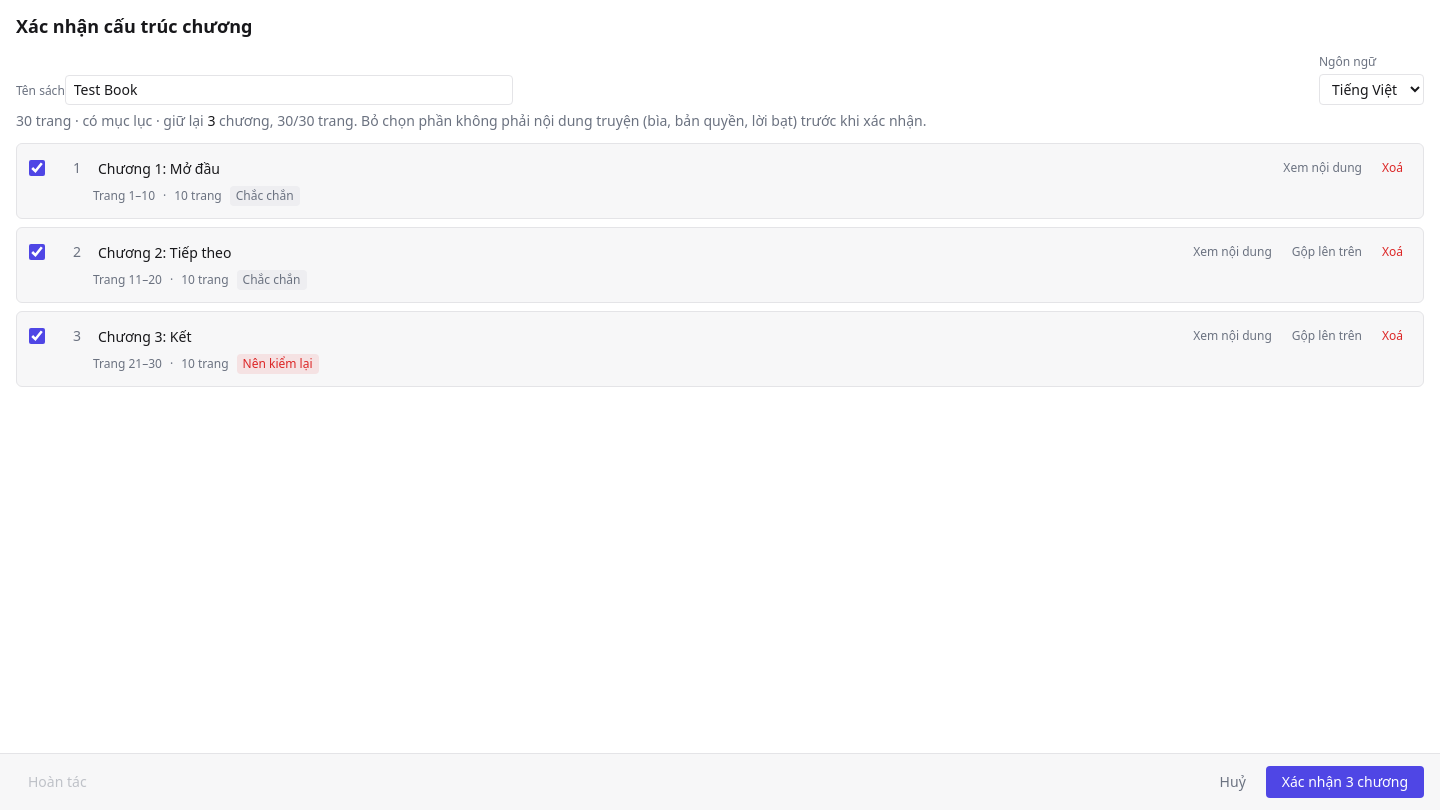
Scenario: loại trừ chương › loại hết mọi chương thì chặn xác nhận
Click the checkbox named "Đưa \"Chương 1: Mở đầu\" vào sách": (37, 168) [29,160,45,176]
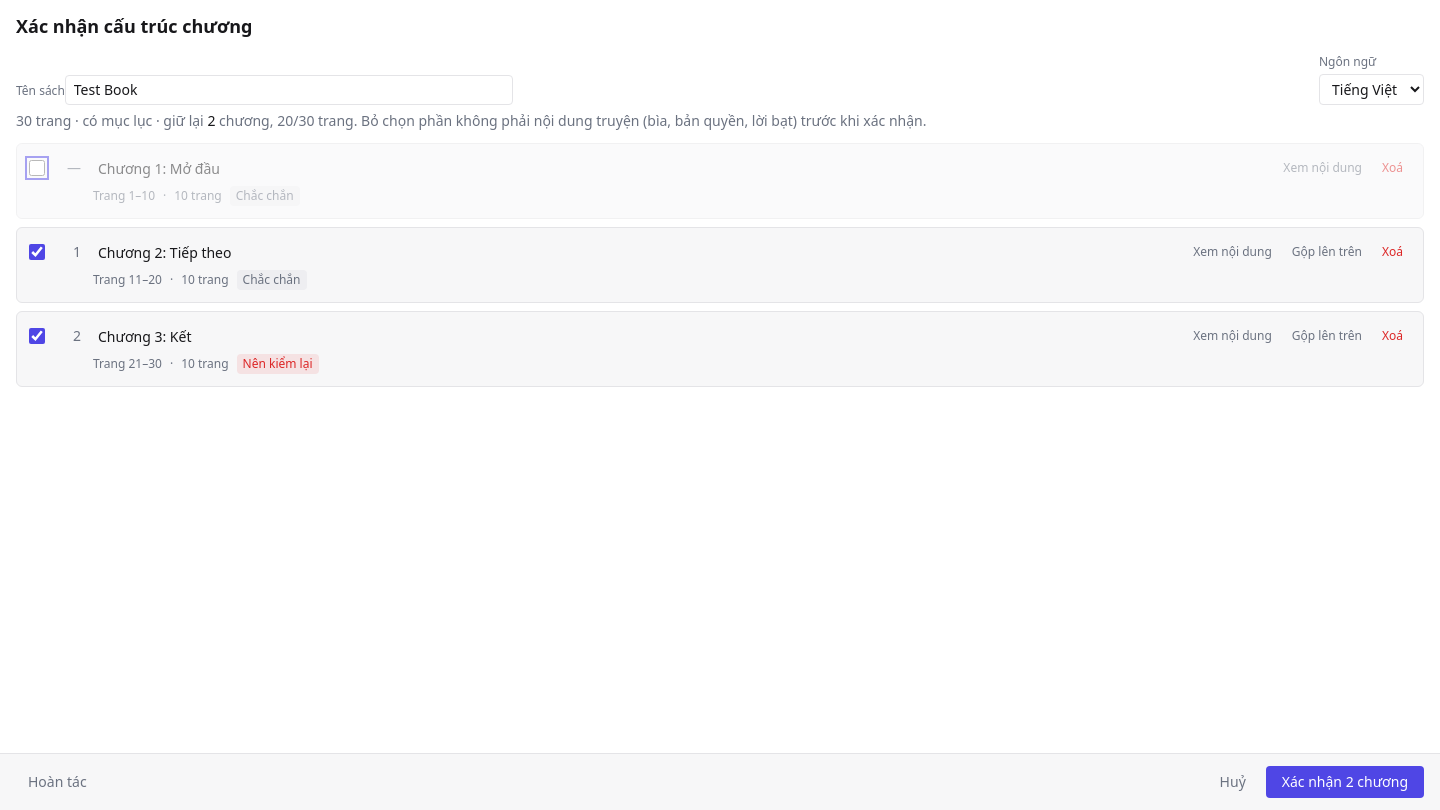
Click the checkbox named "Đưa \"Chương 2: Tiếp theo\" vào sách": (37, 252) [29,244,45,260]
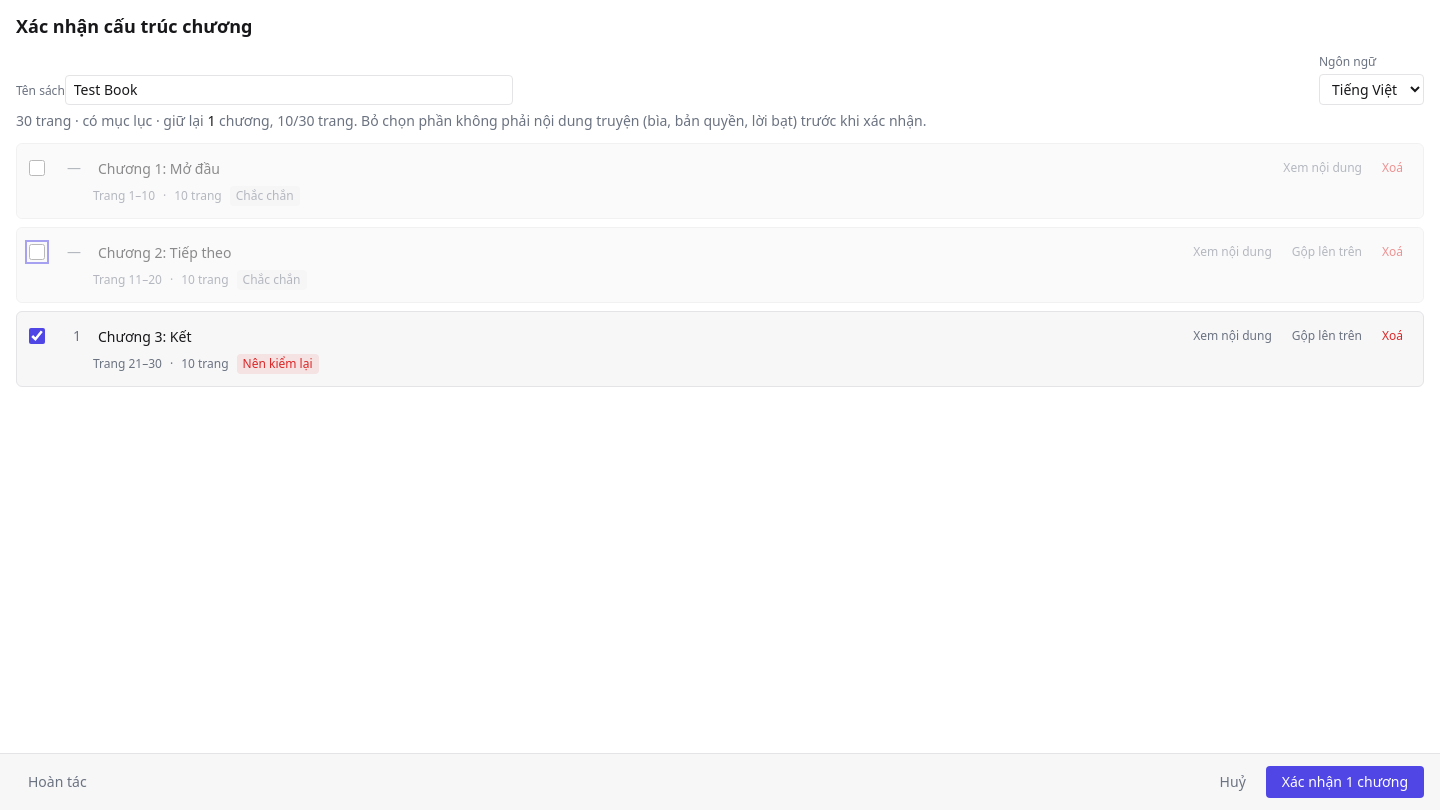
Click the checkbox named "Đưa \"Chương 3: Kết\" vào sách": (37, 336) [29,328,45,344]
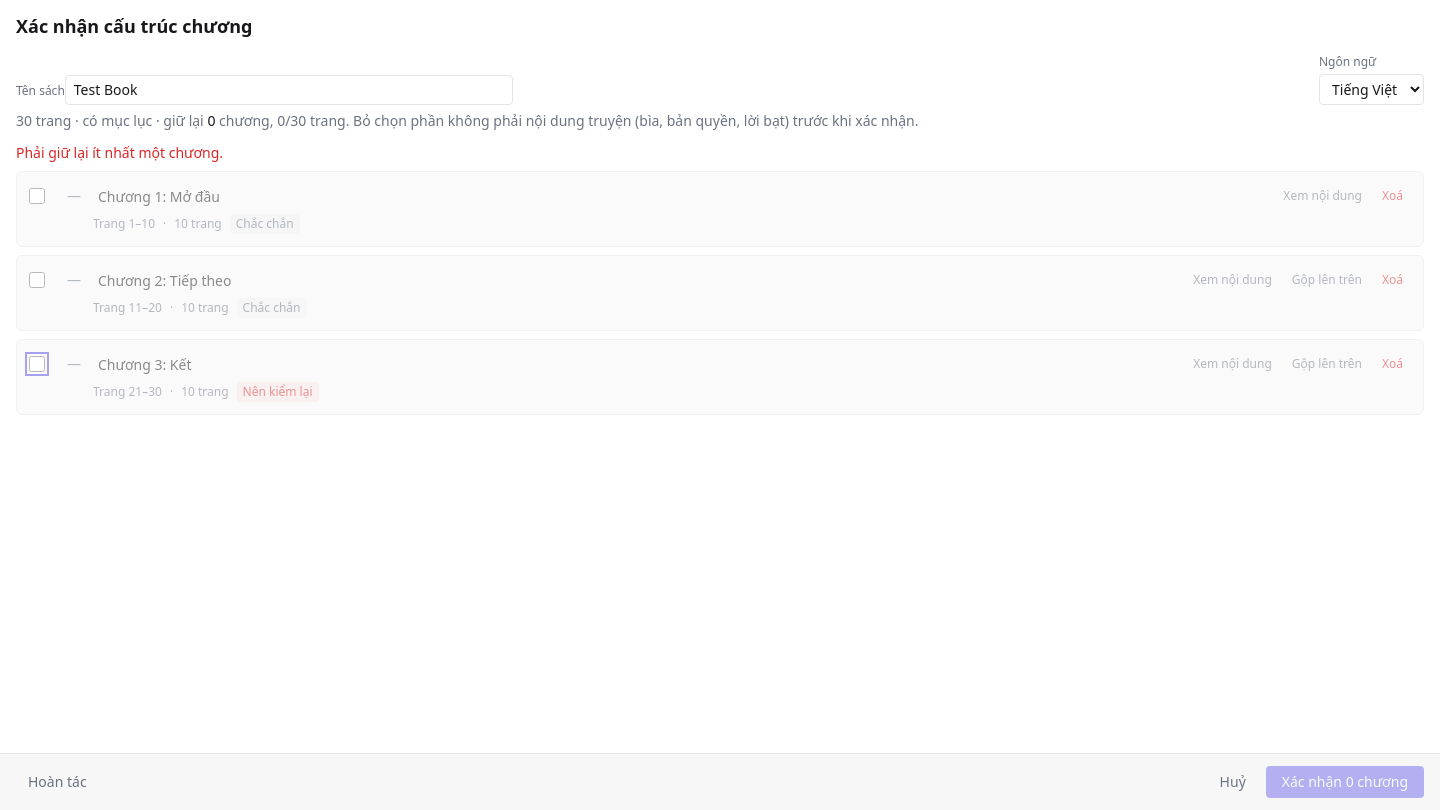
Expected: the button "Xác nhận 0 chương" is disabled, [1266,766,1424,798]
Expected: the message shows "ít nhất một chương", [16,143,223,162]
